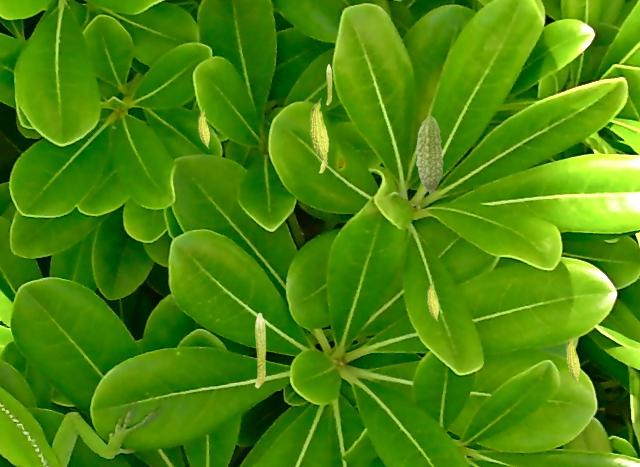ampalaya: (415, 115, 443, 194), (309, 97, 329, 164), (254, 312, 266, 388), (565, 334, 580, 383), (426, 280, 439, 322), (197, 107, 210, 149), (325, 63, 332, 105), (318, 157, 327, 173)
